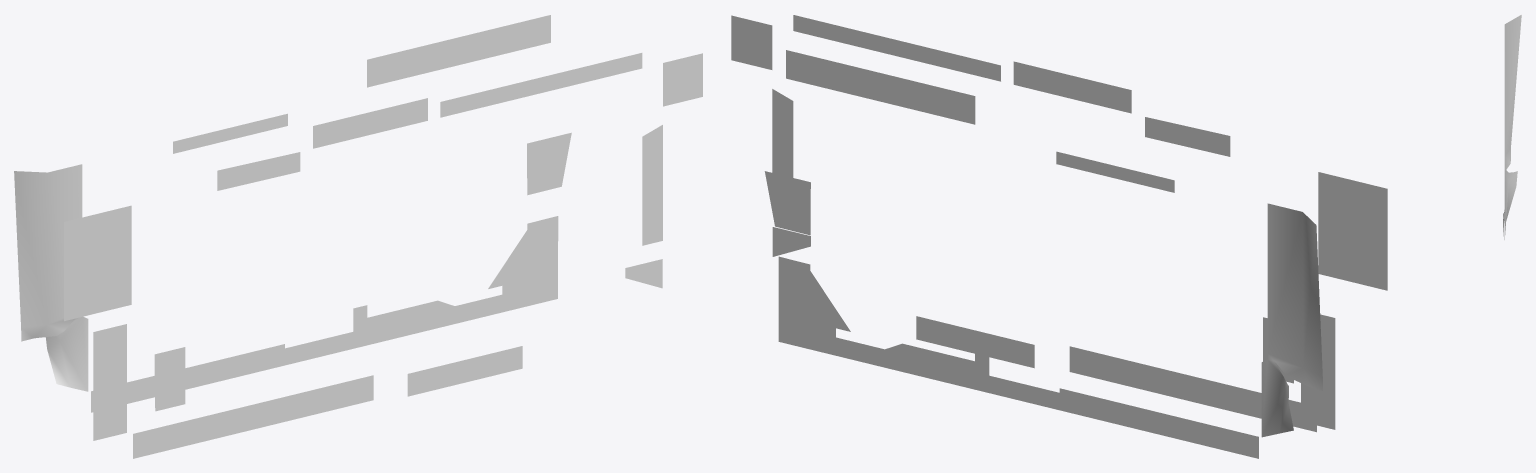
File: Gate_02_Derelict_01_0.glb
3 renders of one model, left to right at view 1: azimuth 30°, elevation 25°; view 2: azimuth 150°, elevation 25°; view 3: azimuth 270°, elevation 25°, orthographic. The views are drawn at different scales.
Parts seen in each view (by area): view 1: Gate_02_Derelict_01_LOD0; view 2: Gate_02_Derelict_01_LOD0; view 3: Gate_02_Derelict_01_LOD0.
Part boxes in pixels (x1=…): Gate_02_Derelict_01_LOD0: x1=14, y1=15, x2=702, y2=458; Gate_02_Derelict_01_LOD0: x1=731, y1=15, x2=1387, y2=458; Gate_02_Derelict_01_LOD0: x1=1503, y1=15, x2=1521, y2=239.
Size of what is drawn, in the model's own units: 33.41 by 14.94 by 5.45.
1 material, 1 textured.
